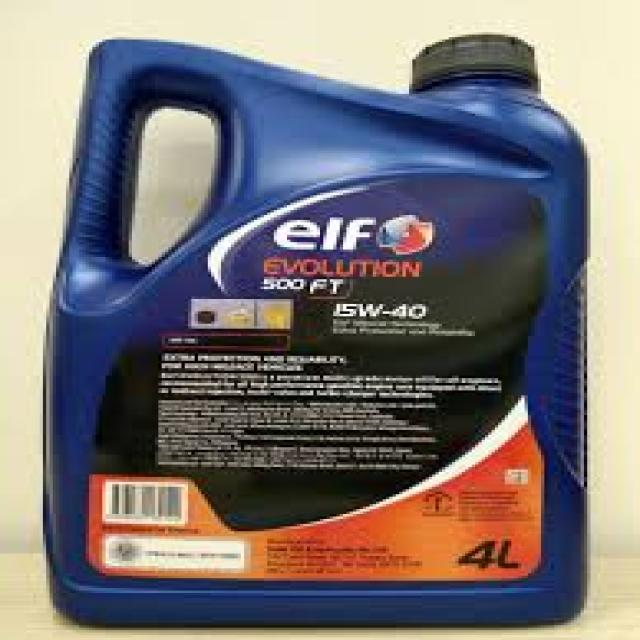motor_oil: (32, 34, 603, 626)
